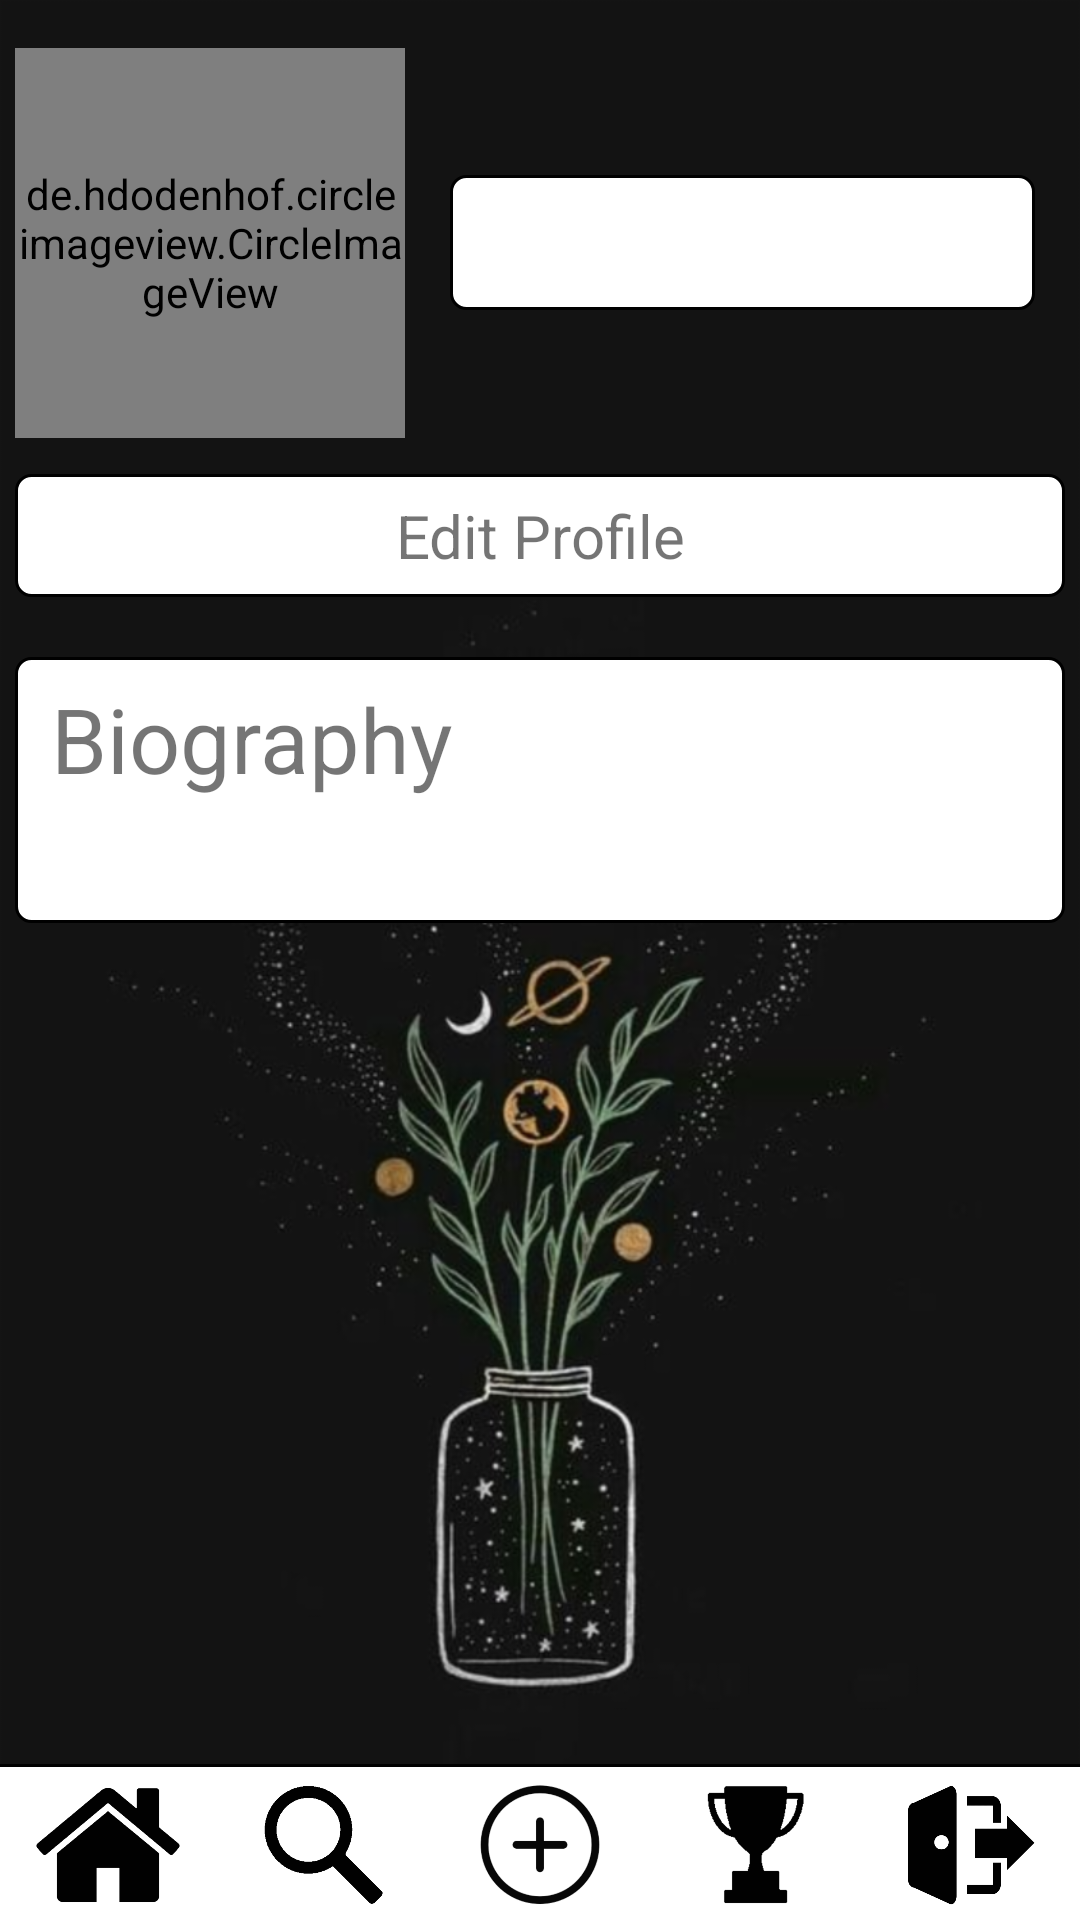

Screen size 1080px x 1920px. Icon name, then its center in pixels as point (x, y):
add: point (540, 1844)
home: point (108, 1845)
search: point (323, 1845)
trophy: point (755, 1844)
